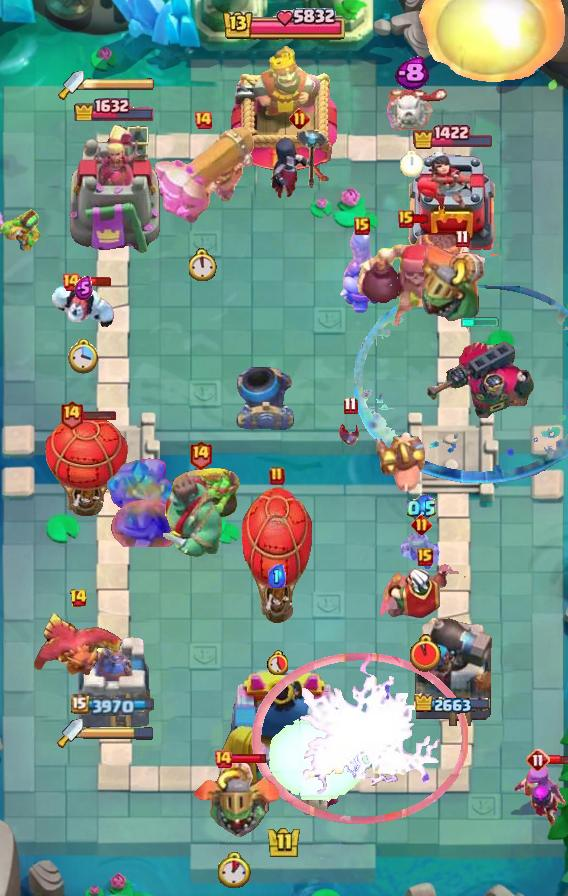bar: (67, 122, 161, 256), (75, 623, 153, 731)
barbarian-barrel: (338, 420, 362, 448)
barbarian-evolution: (252, 652, 469, 825)
cannon-cart: (241, 487, 313, 627), (44, 411, 130, 519)
cannoneer-tower: (98, 457, 188, 547)
clock: (221, 5, 347, 45)
electro-giant: (355, 222, 475, 332)
electro-spirit: (394, 56, 430, 91), (408, 493, 437, 522), (74, 276, 93, 300), (268, 564, 286, 588)
elite-barbarian: (340, 231, 384, 313)
elixir: (217, 852, 251, 888), (411, 634, 441, 672), (68, 339, 99, 375), (190, 248, 218, 280), (400, 151, 423, 177), (268, 649, 289, 674)
emote: (81, 409, 117, 421), (232, 752, 269, 763), (78, 276, 112, 287), (413, 213, 432, 225), (548, 754, 568, 765)
freeze: (373, 427, 429, 499)
furnace: (148, 126, 258, 232)
giant-snowball: (0, 209, 48, 253)
ice-spirit: (460, 315, 502, 327)
inferno-tower: (425, 339, 537, 425)
king-tower: (219, 670, 349, 826), (231, 45, 337, 181)
king-tower-bar: (84, 77, 156, 91), (83, 726, 155, 740)
lava-hound: (160, 461, 240, 559)
mega-knight: (266, 713, 372, 806)
mini-pekka: (371, 81, 451, 131)
mother-witch: (30, 613, 126, 681)
musketeer: (236, 366, 296, 430)
night-witch: (418, 239, 506, 323), (189, 759, 279, 839)
pad_0: (354, 281, 568, 483)
queen-tower: (408, 152, 498, 256)
rage: (48, 279, 118, 331)
rascal-boy: (268, 128, 330, 200)
rascal-girl: (512, 763, 568, 829)
selected: (72, 95, 155, 121), (413, 124, 496, 150), (71, 694, 157, 716), (414, 692, 492, 715)
skeleton-king: (377, 555, 473, 623)
text: (60, 399, 85, 430), (188, 438, 213, 469), (526, 748, 550, 772), (289, 107, 311, 128), (412, 513, 433, 534), (193, 110, 213, 130), (61, 272, 81, 292), (68, 588, 88, 608), (213, 749, 233, 769), (269, 466, 285, 486), (398, 210, 414, 228), (354, 217, 370, 235), (417, 548, 433, 566), (454, 229, 469, 247), (343, 397, 357, 415)
tower-bar: (410, 611, 496, 731)
valkyrie: (413, 0, 567, 92)
zap: (400, 529, 442, 573)
